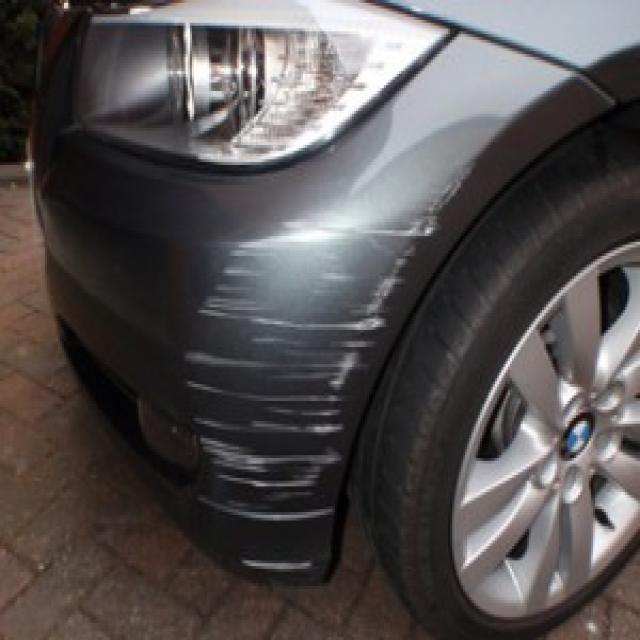Scratch: (190, 222, 425, 586)
